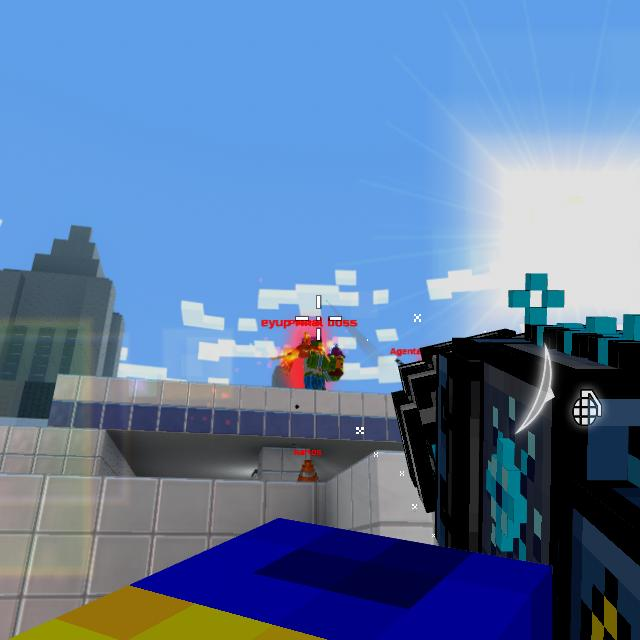Enemy: (287, 336, 345, 391)
